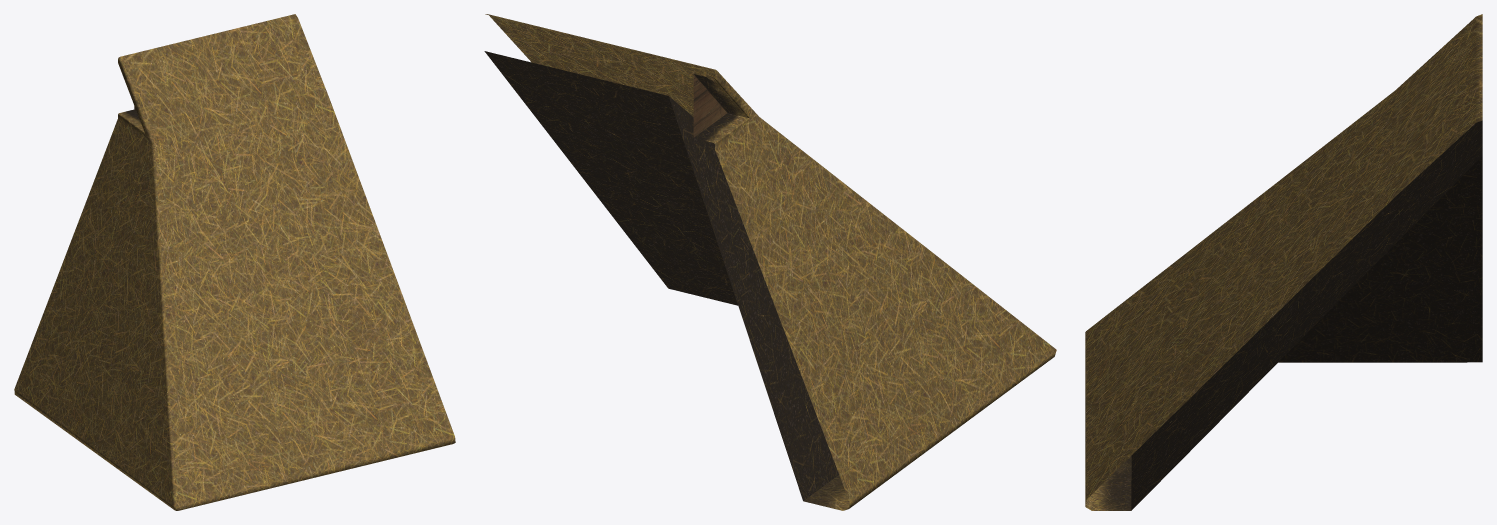
The model's file is Roof_Hay_End_Right_Corner.fbx.
3 views of the same model, side by side, from view 1: azimuth 30°, elevation 25°; view 2: azimuth 150°, elevation 25°; view 3: azimuth 270°, elevation 25° (orthographic). The views are drawn at different scales.
Visible parts, largest first — view 1: Roof_Hay_End_Right_Corner; view 2: Roof_Hay_End_Right_Corner; view 3: Roof_Hay_End_Right_Corner.
Part boxes in pixels (bbox=[...]): Roof_Hay_End_Right_Corner: bbox=[14, 14, 455, 510]; Roof_Hay_End_Right_Corner: bbox=[484, 14, 1056, 510]; Roof_Hay_End_Right_Corner: bbox=[1085, 14, 1482, 510].
Bounding box in the file's own units: 231 × 248 × 228.
